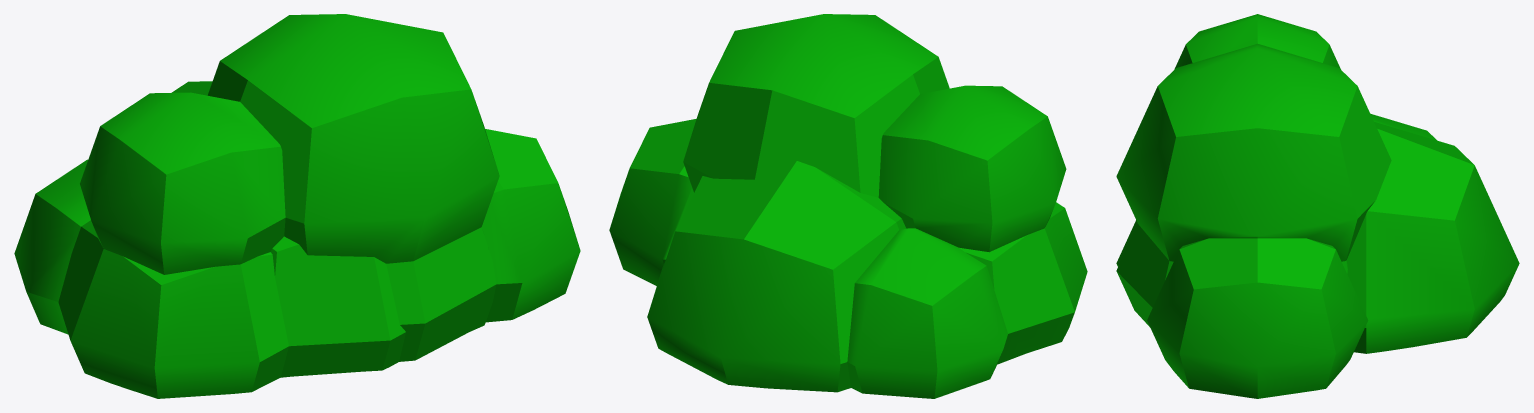
Rendered from ArbustoLowPoly1.fbx.
3 views of the same model, side by side, from view 1: azimuth 30°, elevation 25°; view 2: azimuth 150°, elevation 25°; view 3: azimuth 270°, elevation 25° (orthographic). The views are drawn at different scales.
Parts seen in each view (by area): view 1: polySurface2; view 2: polySurface2; view 3: polySurface2.
Boxes of the visible parts, <box> form: polySurface2: <box>14,14,580,398</box>; polySurface2: <box>609,14,1087,398</box>; polySurface2: <box>1116,14,1519,398</box>.
Bounding box in the file's own units: 9.19 × 5.22 × 7.28.
